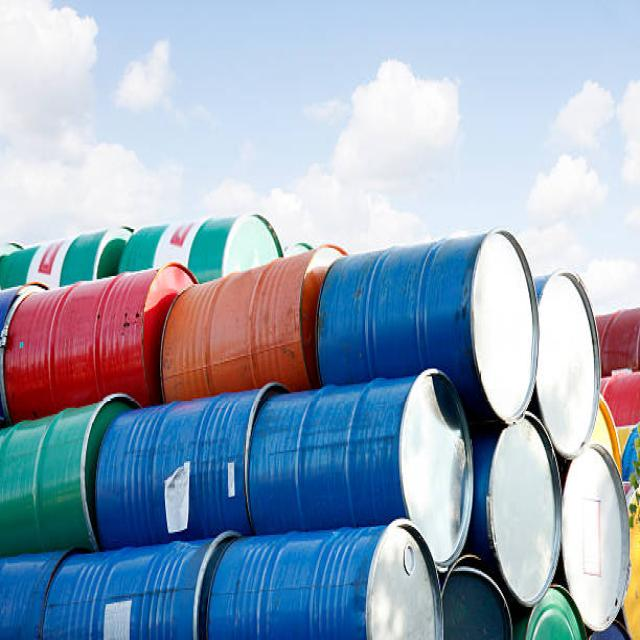metal: (19, 245, 307, 395), (1, 535, 395, 640), (325, 250, 501, 384)
